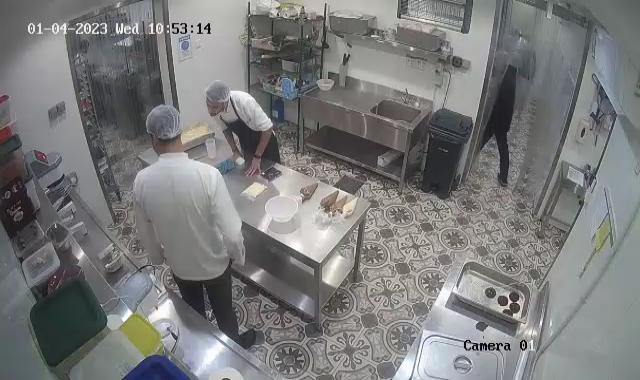hairnet: (146, 104, 184, 146), (205, 81, 230, 111)
